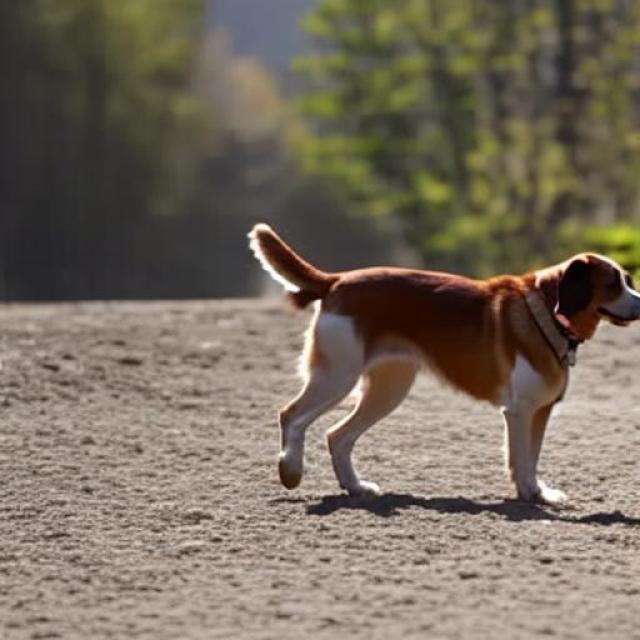Dog: (248, 221, 640, 507)
